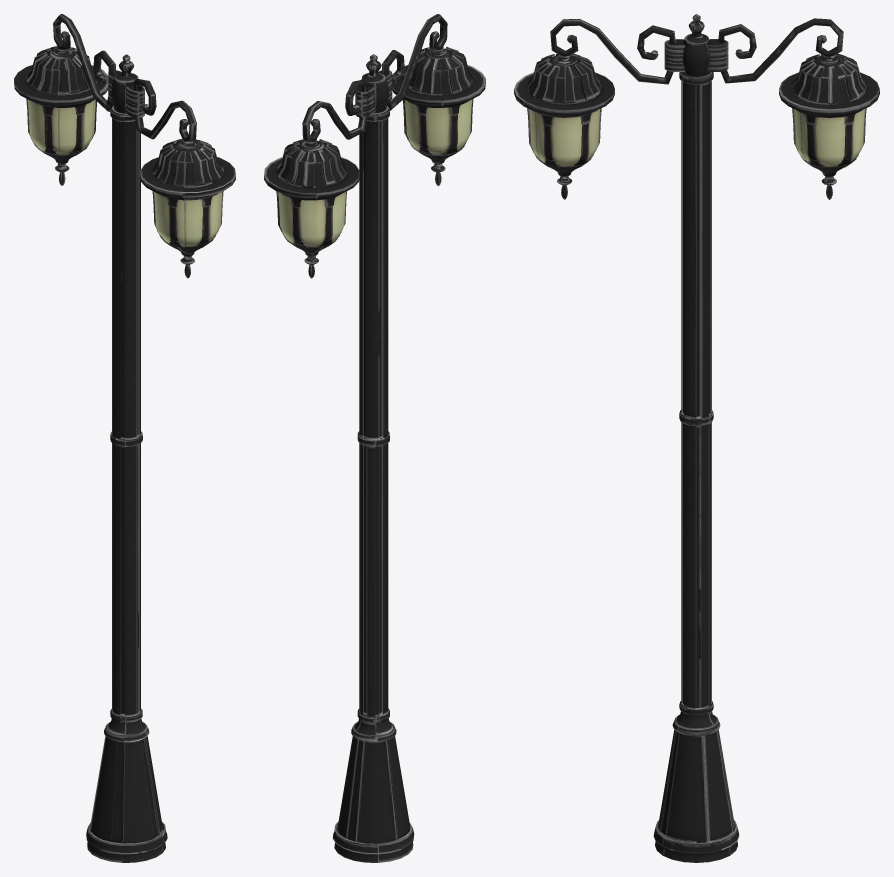
File: LightPost.fbx
3 views of the same model, side by side, from view 1: azimuth 30°, elevation 25°; view 2: azimuth 150°, elevation 25°; view 3: azimuth 270°, elevation 25° (orthographic). The views are drawn at different scales.
Parts seen in each view (by area): view 1: Lightpost; view 2: Lightpost; view 3: Lightpost.
Boxes of the visible parts, box(x1,y1,x2,y2) form: Lightpost: box(14, 14, 235, 862); Lightpost: box(264, 14, 485, 862); Lightpost: box(514, 14, 879, 862).
Bounding box in the file's own units: 33.71 × 306 × 122.
1 material, 1 textured.
